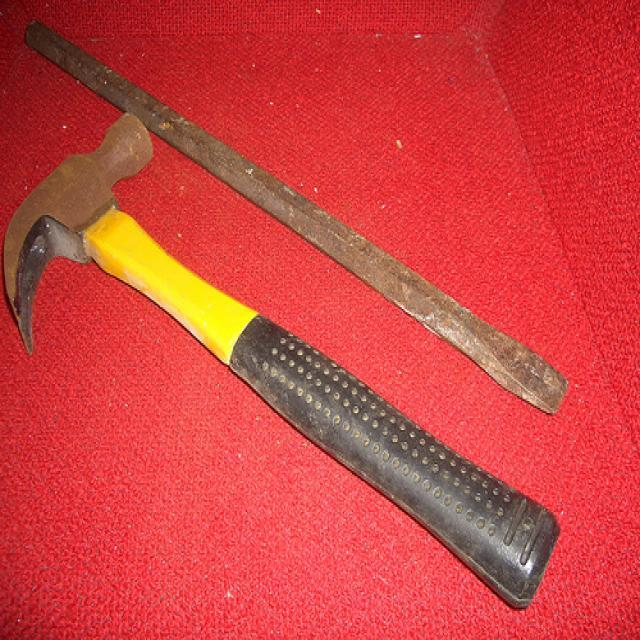hammer: (0, 103, 561, 624)
